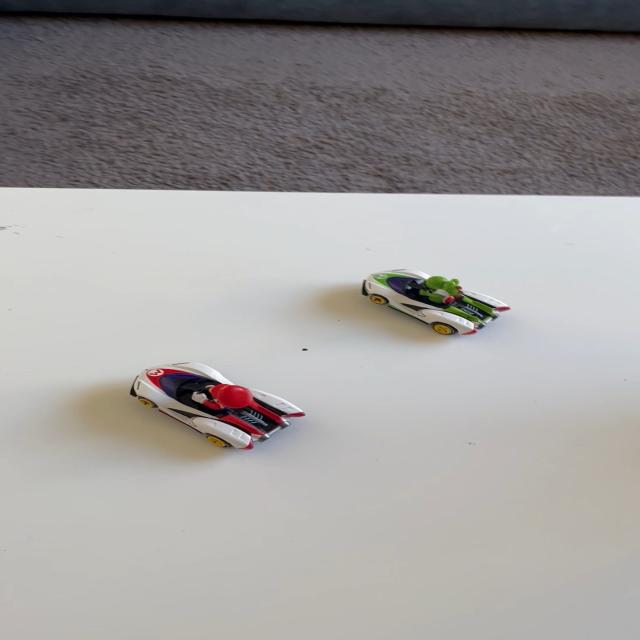mario: (109, 363, 325, 467)
yoshi: (348, 263, 524, 345)
